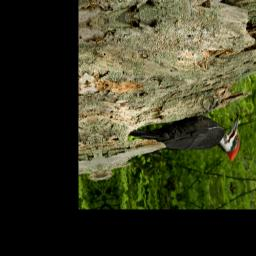Woodpecker: (123, 91, 246, 179)
